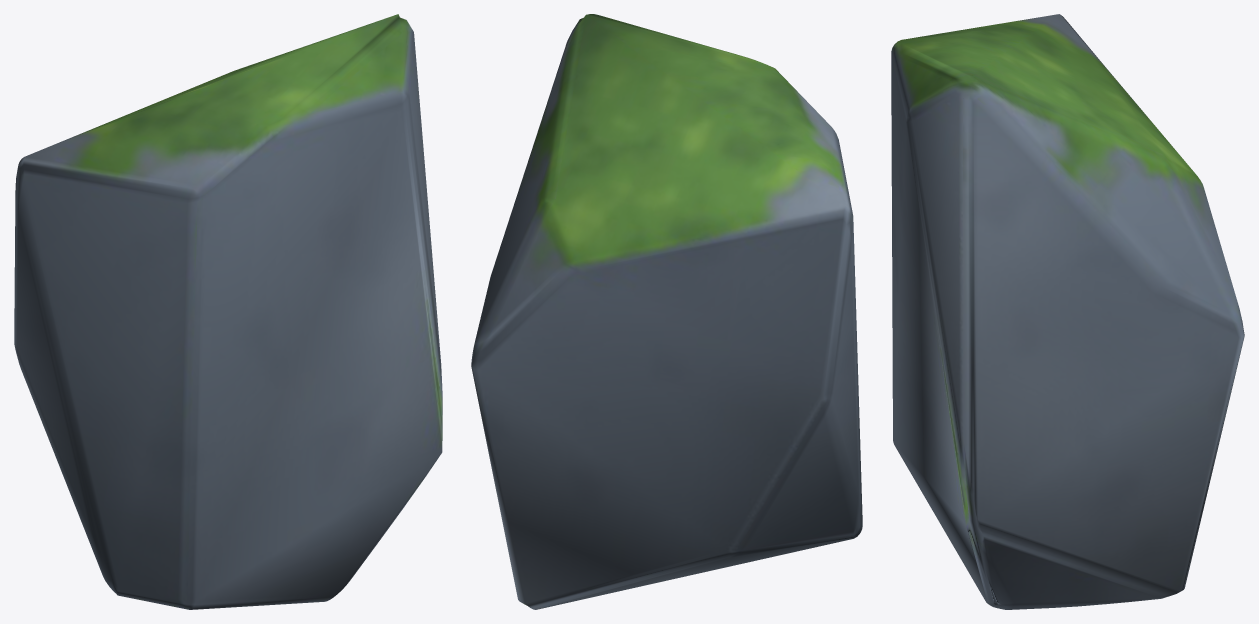
The model's file is rock_c.glb.
The picture shows the model from 3 angles, left to right: view 1: azimuth 30°, elevation 25°; view 2: azimuth 150°, elevation 25°; view 3: azimuth 270°, elevation 25°; orthographic projection. The views are drawn at different scales.
Parts seen in each view (by area): view 1: rock_c; view 2: rock_c; view 3: rock_c.
Boxes of the visible parts, <box> form: rock_c: <box>14,14,442,609</box>; rock_c: <box>471,14,862,609</box>; rock_c: <box>891,14,1244,609</box>.
Bounding box in the file's own units: 0.9777 × 1.42 × 0.8139.
1 material, 1 textured.
